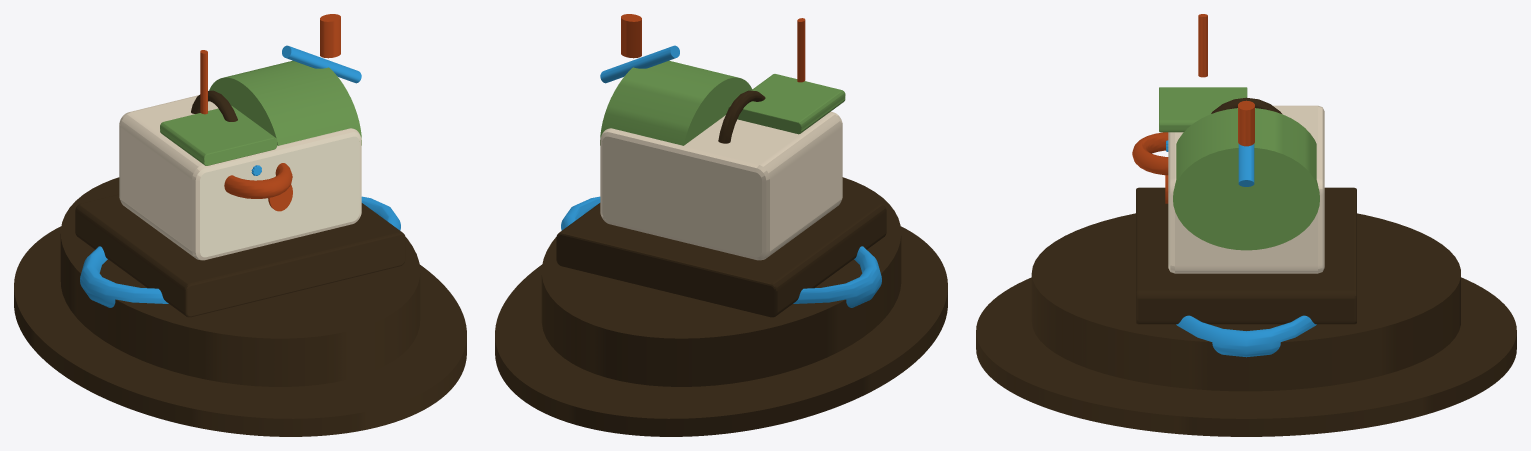
Rendered from 1244_三国演义1_刘关张的兵器.glb.
3 renders of one model, left to right at view 1: azimuth 30°, elevation 25°; view 2: azimuth 150°, elevation 25°; view 3: azimuth 270°, elevation 25°, orthographic.
Parts seen in each view (by area): view 1: card_1244; view 2: card_1244; view 3: card_1244.
Part boxes in pixels (box(x1,y1,x2,y2)): card_1244: box(14, 14, 466, 436); card_1244: box(495, 14, 947, 436); card_1244: box(976, 14, 1516, 436).
Bounding box in the file's own units: 1.24 × 1 × 1.61.
